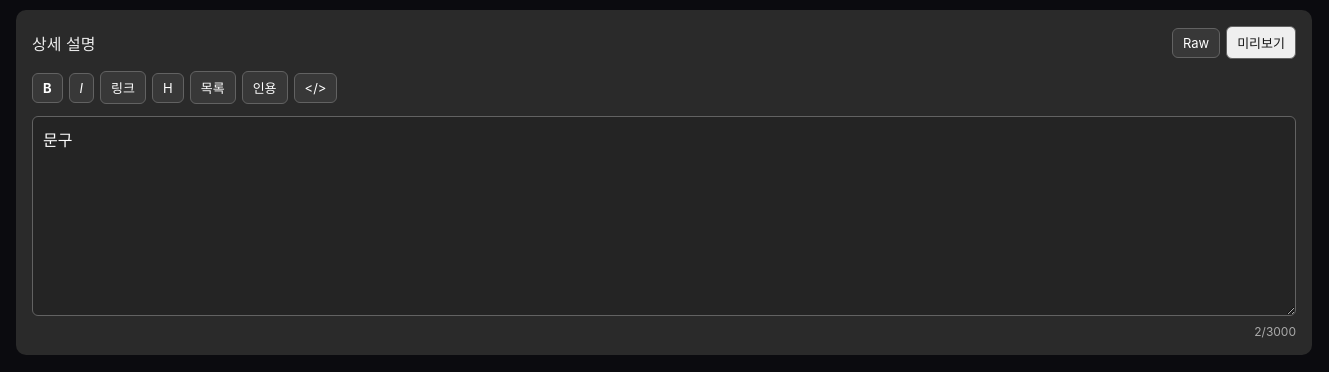
Scenario: 제목 버튼은 선택 영역에 마크다운을 적용한다
Click the button "Raw" at (1196, 42), box [1172,28,1220,58]
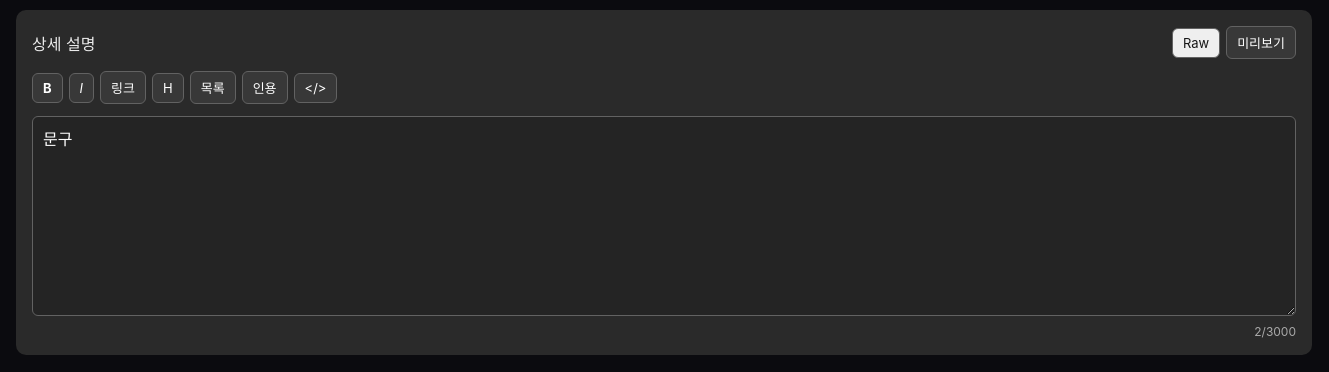
Click the button named "제목" at (168, 88), box [152,72,184,102]
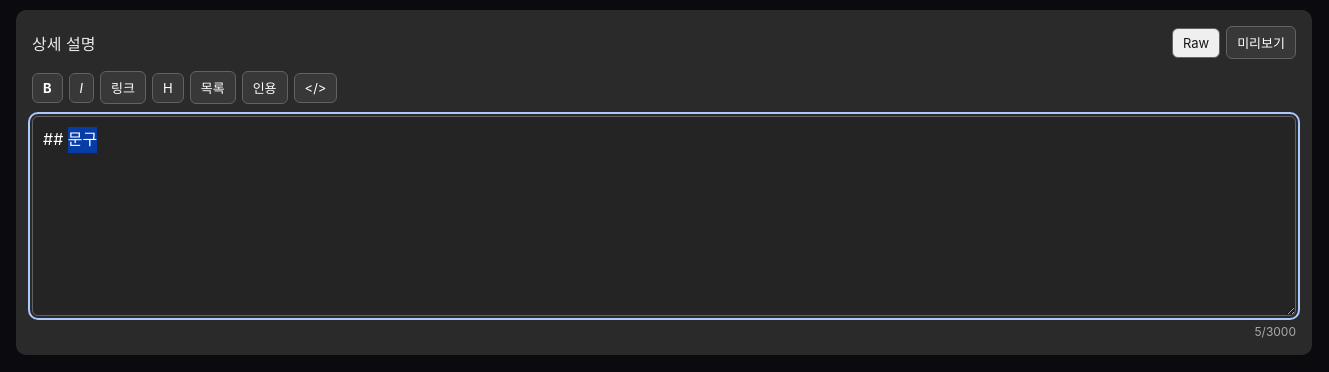
Now the text box named "상세 설명" holds "## 문구", box [32,116,1296,316]
